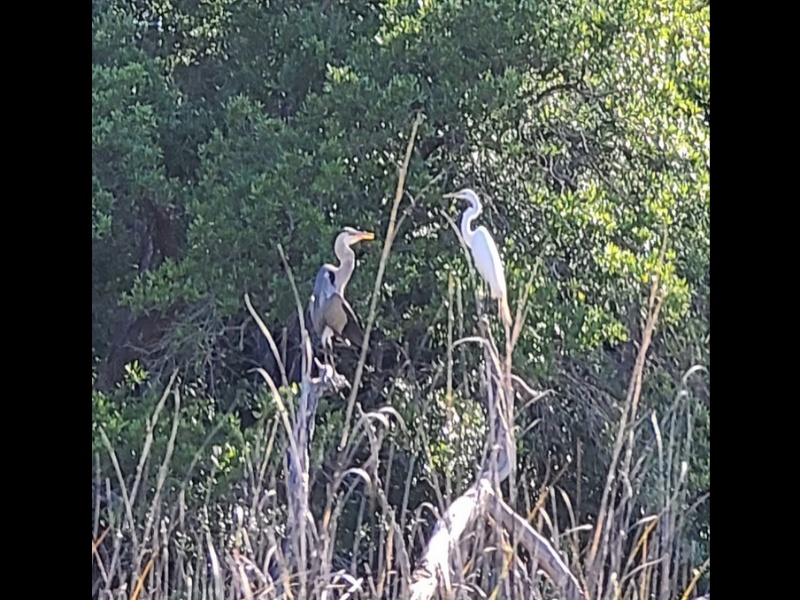heron: (307, 222, 379, 375), (441, 186, 513, 328)
